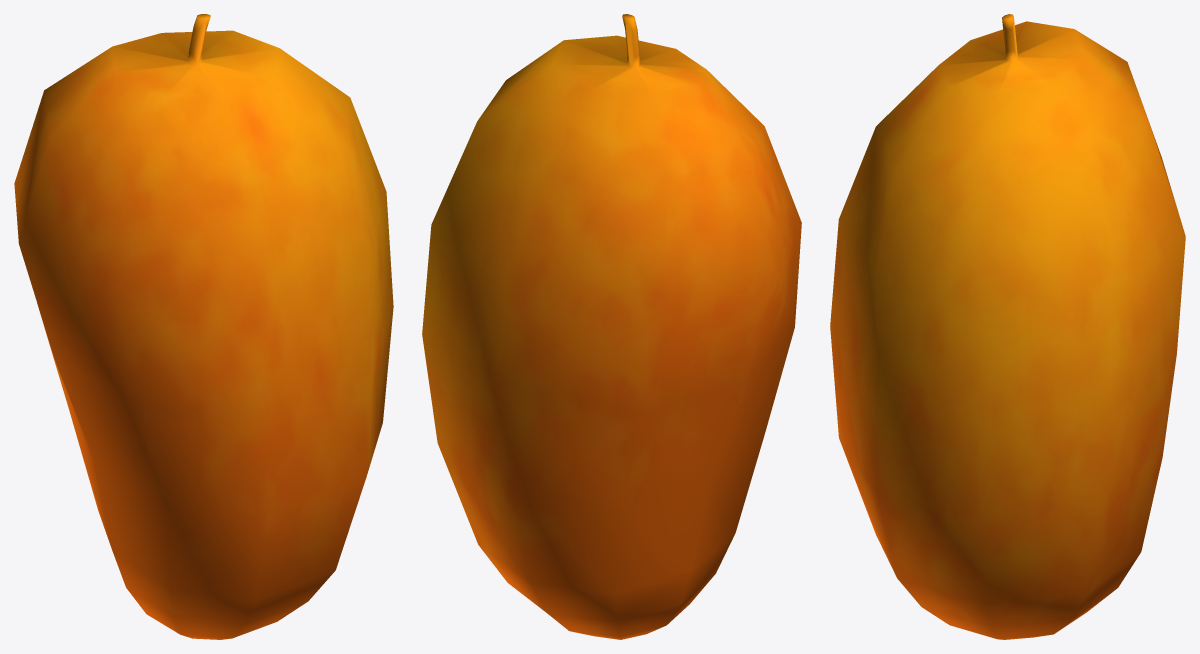
The model's file is mango-webp.glb.
3 renders of one model, left to right at view 1: azimuth 30°, elevation 25°; view 2: azimuth 150°, elevation 25°; view 3: azimuth 270°, elevation 25°, orthographic.
Visible parts, largest first — view 1: mango; view 2: mango; view 3: mango.
Boxes of the visible parts, <box> form: mango: <box>14,14,393,639</box>; mango: <box>422,14,801,639</box>; mango: <box>830,14,1185,639</box>.
Size of the model in its own units: 0.2791 by 0.4792 by 0.2535.
Materials: 1 (1 with a texture image).
